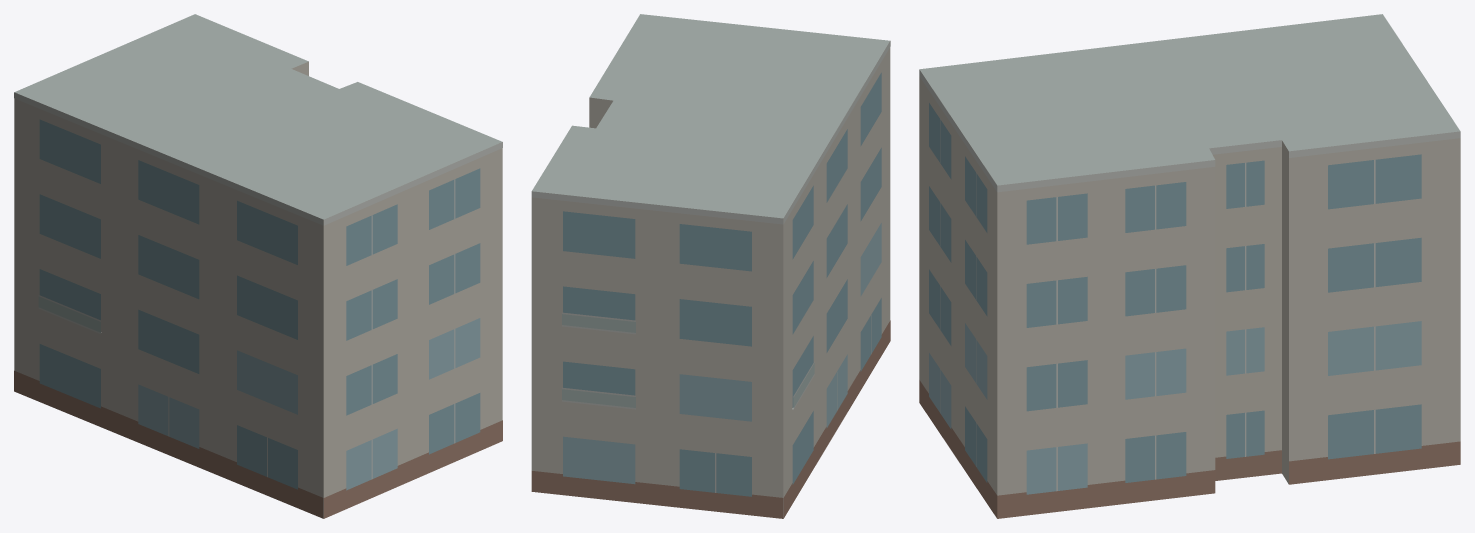
The model's file is survey-upis-32525097.glb.
The picture shows the model from 3 angles, left to right: view 1: azimuth 30°, elevation 25°; view 2: azimuth 150°, elevation 25°; view 3: azimuth 270°, elevation 25°; orthographic projection. The views are drawn at different scales.
Parts seen in each view (by area): view 1: survey-upis-32525097.tmp; view 2: survey-upis-32525097.tmp; view 3: survey-upis-32525097.tmp.
Boxes of the visible parts, x1=… form: survey-upis-32525097.tmp: x1=14, y1=14, x2=502, y2=518; survey-upis-32525097.tmp: x1=531, y1=14, x2=890, y2=518; survey-upis-32525097.tmp: x1=919, y1=14, x2=1460, y2=518.
Size of the model in its own units: 13.23 by 11.98 by 17.64.
